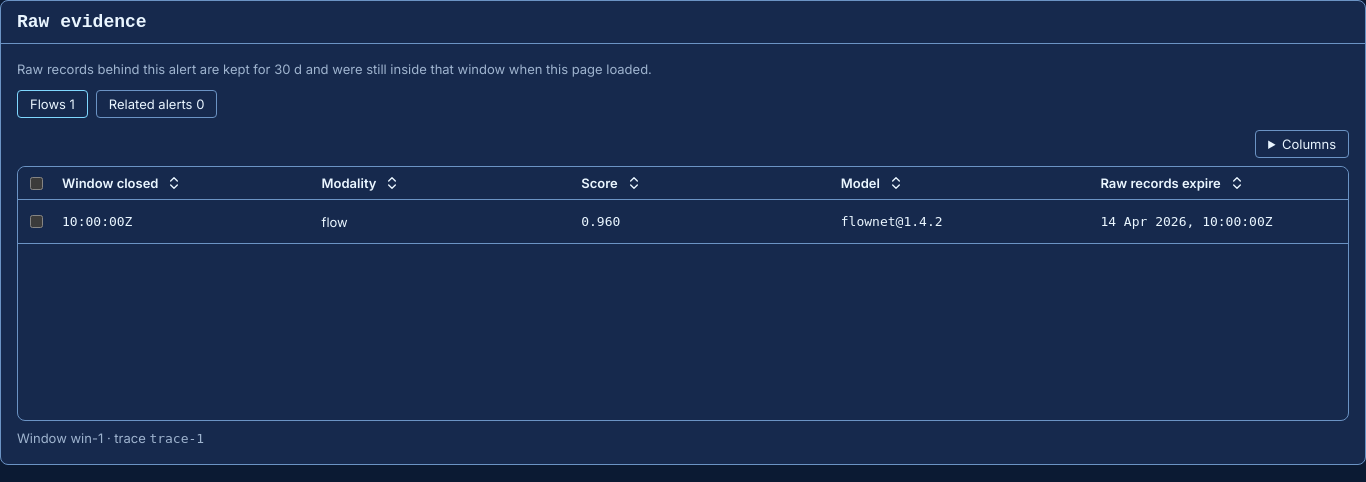
Test: EvidencePanel › says so when there are no related alerts
Click the tab "Related alerts 0": (157, 104) [96, 90, 217, 118]
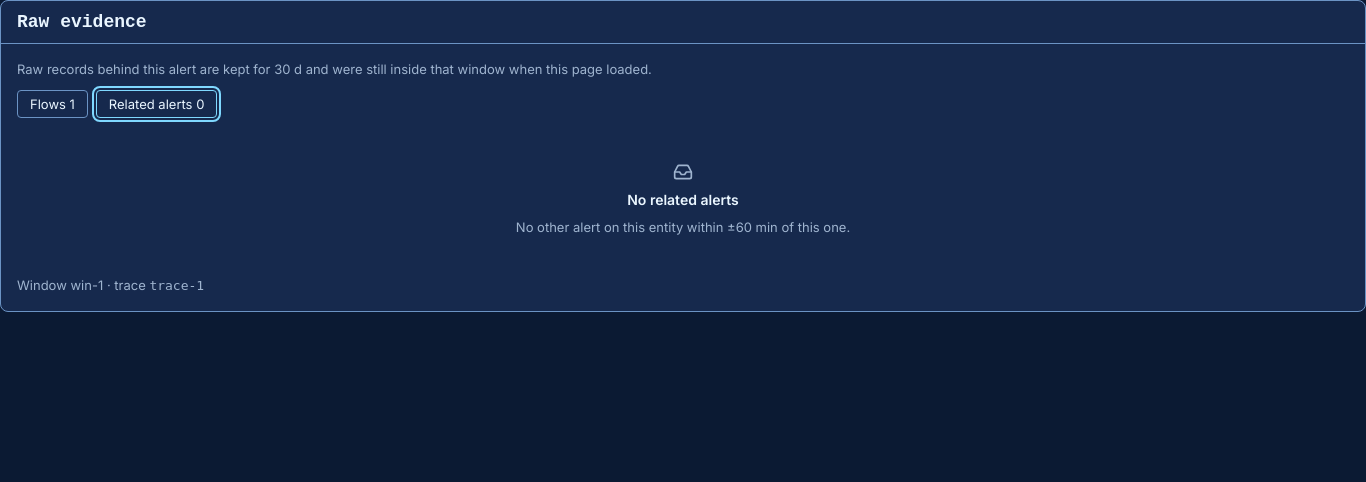
Check: the text "No related alerts" is shown, box [627, 190, 739, 210]
Check: the text "No other alert on this entity within ±60 min of this one." is shown, box [516, 218, 850, 236]
